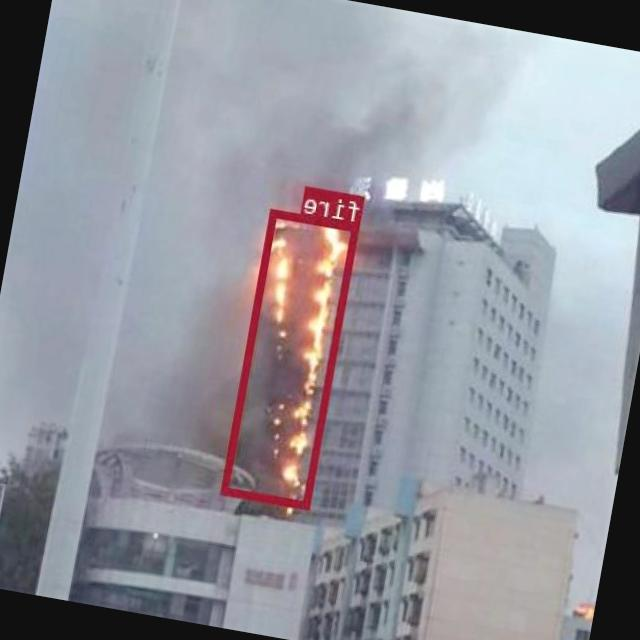fire: (222, 208, 360, 508)
